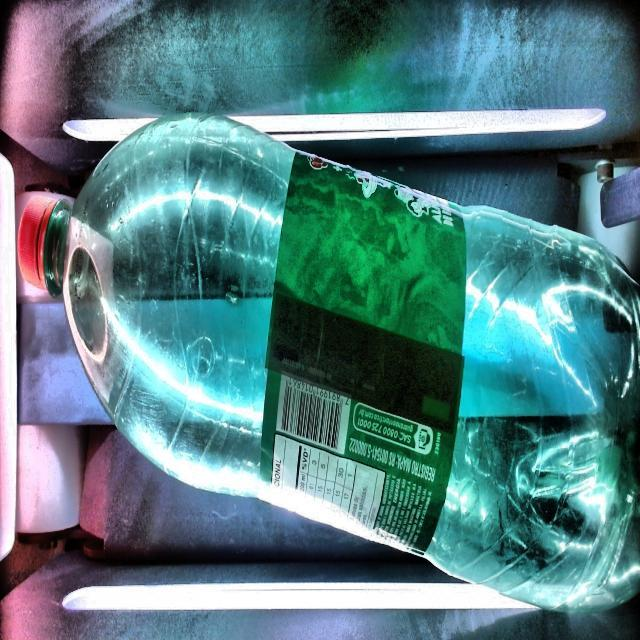bottom: (439, 221, 640, 608)
code: (276, 376, 351, 453)
label: (261, 153, 466, 553)
neck: (17, 109, 288, 496)
